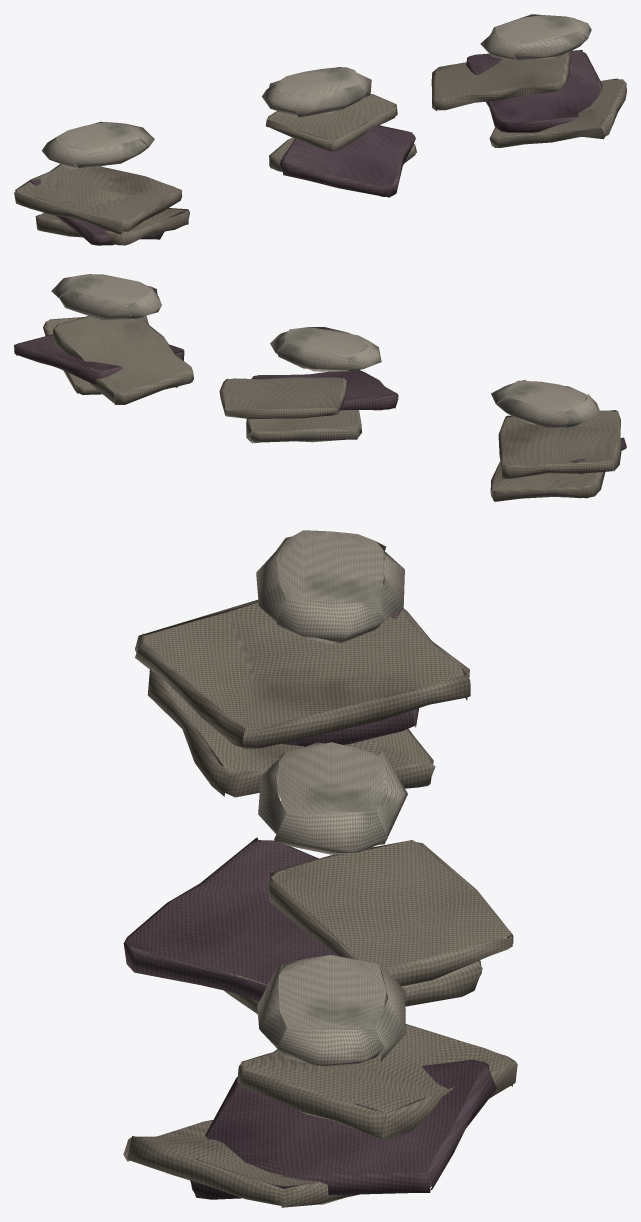
Rendered from B09_PillowAndBlanketPile.glb.
The picture shows the model from 3 angles, top to bottom: view 1: azimuth 30°, elevation 25°; view 2: azimuth 150°, elevation 25°; view 3: azimuth 270°, elevation 25°; orthographic projection. The views are drawn at different scales.
Visible parts, largest first — view 1: B09_PillowAndBlanketPile; view 2: B09_PillowAndBlanketPile; view 3: B09_PillowAndBlanketPile.
Part boxes in pixels (x1,y1,x2,y2): B09_PillowAndBlanketPile: [14, 14, 626, 245]; B09_PillowAndBlanketPile: [14, 274, 626, 501]; B09_PillowAndBlanketPile: [123, 530, 517, 1207].
Size of the model in its own units: 0.5996 by 0.0966 by 0.174.
7 materials, 7 textured.
